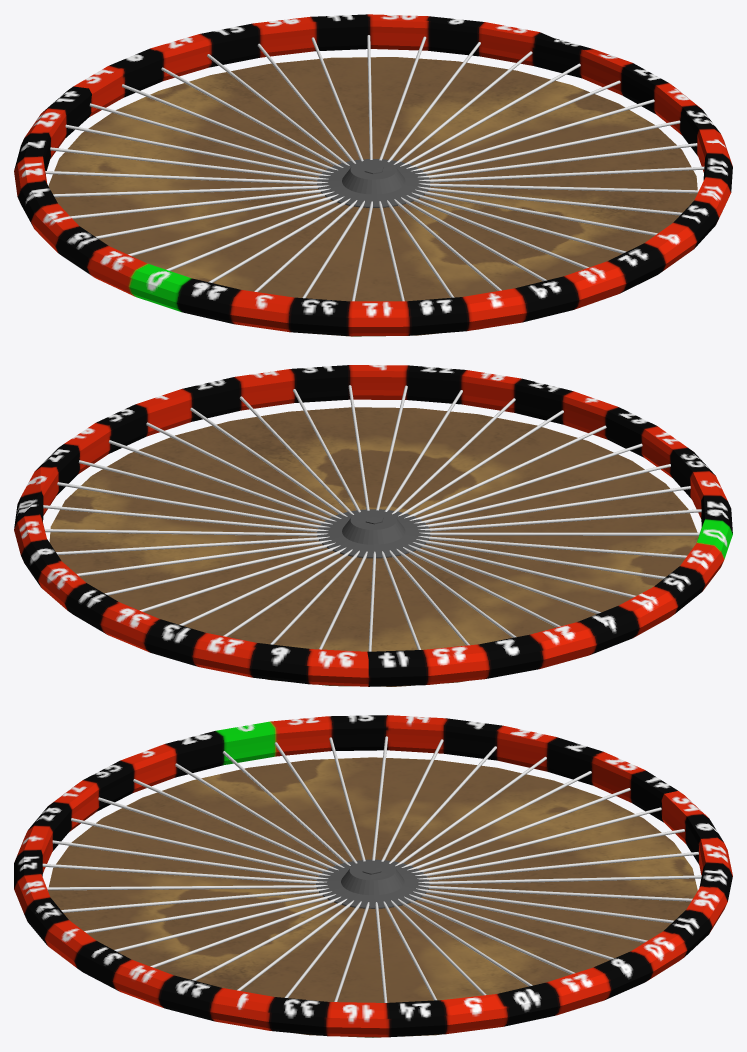
Rendered from roleta_veryseriousgamejam(4).fbx.
3 views of the same model, one above another, from view 1: azimuth 30°, elevation 25°; view 2: azimuth 150°, elevation 25°; view 3: azimuth 270°, elevation 25° (orthographic).
Visible parts, largest first — view 1: cartão, pneu, pauzinhos, centro; view 2: cartão, pneu, pauzinhos, centro; view 3: cartão, pneu, pauzinhos, centro.
Boxes of the visible parts, x1,y1,x2,y2 form: cartão: [48, 57, 697, 336]; pneu: [14, 14, 732, 336]; pauzinhos: [45, 35, 704, 301]; centro: [317, 159, 430, 207]; cartão: [49, 407, 698, 686]; pneu: [14, 365, 732, 686]; pauzinhos: [43, 385, 701, 651]; centro: [317, 509, 430, 558]; cartão: [48, 757, 697, 1037]; pneu: [14, 715, 732, 1037]; pauzinhos: [42, 736, 701, 1002]; centro: [316, 859, 429, 908].
Size of the model in its own units: 691 by 40.52 by 691.
Materials: 4 (2 with a texture image).
